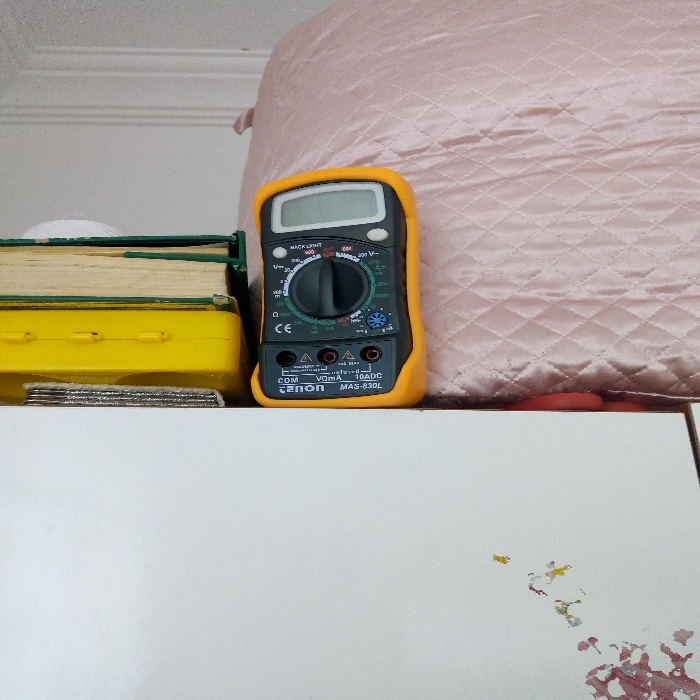multimetre: (238, 163, 432, 411)
